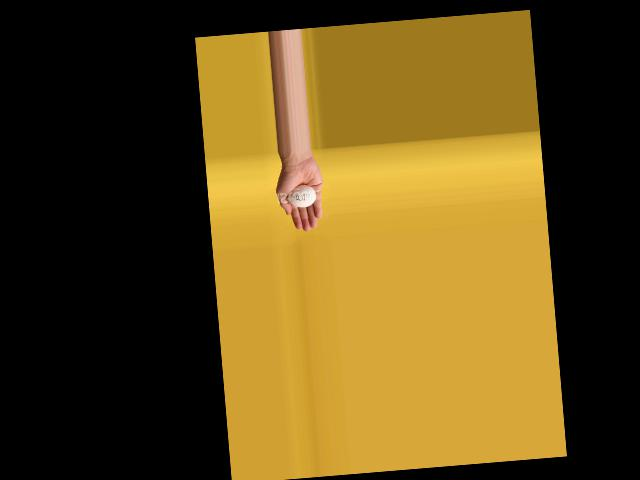egg: (286, 184, 317, 208)
